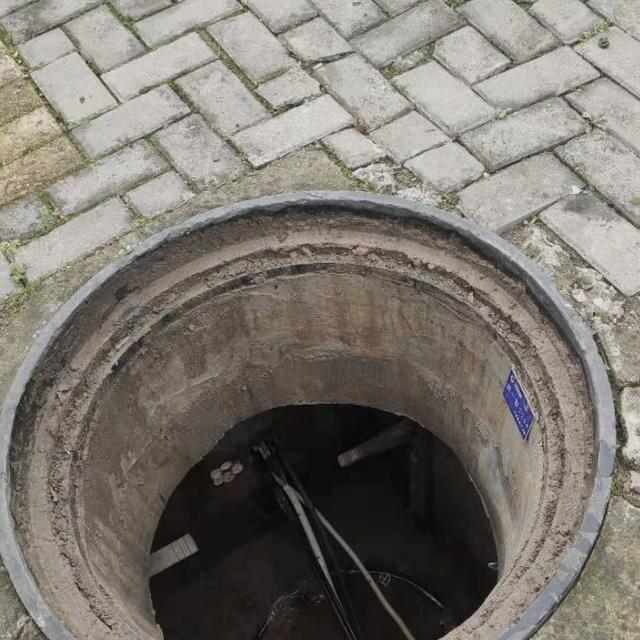lose: (0, 186, 619, 640)
